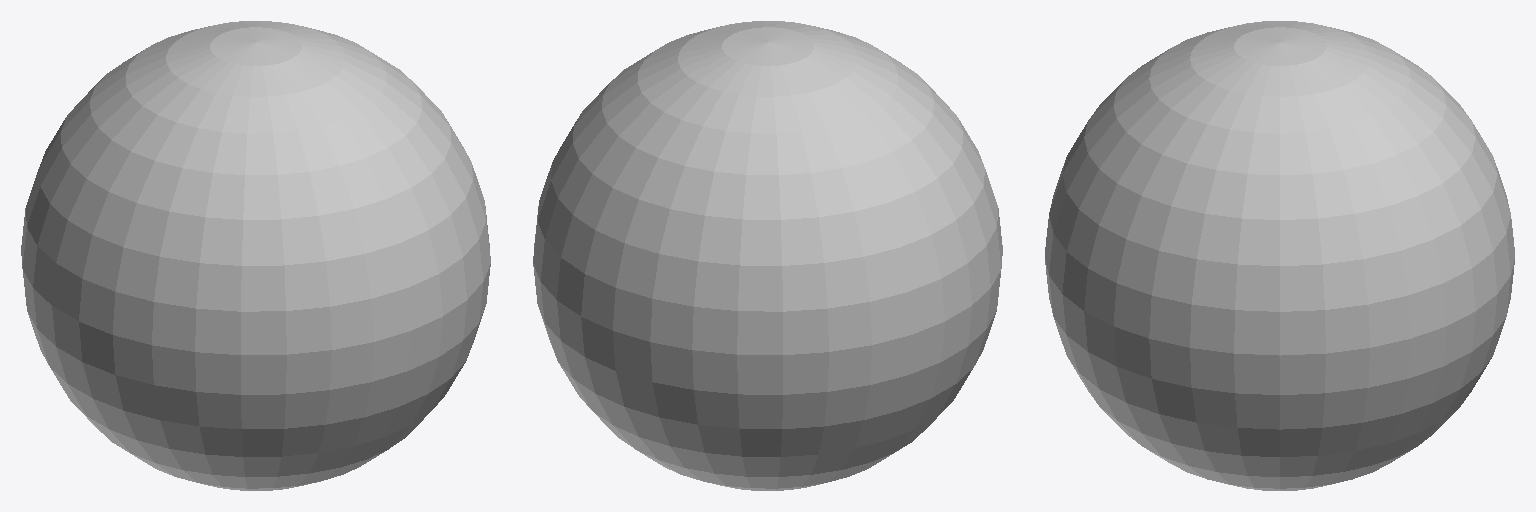
The model's file is ball.obj.
The picture shows the model from 3 angles: view 1: azimuth 30°, elevation 25°; view 2: azimuth 150°, elevation 25°; view 3: azimuth 270°, elevation 25°; orthographic projection.
Parts seen in each view (by area): view 1: Sphere; view 2: Sphere; view 3: Sphere.
Boxes of the visible parts, box(x1,y1,x2,y2) form: Sphere: box(21, 21, 490, 490); Sphere: box(533, 21, 1002, 490); Sphere: box(1045, 21, 1514, 490).
Bounding box in the file's own units: 0.3 × 0.3 × 0.3.